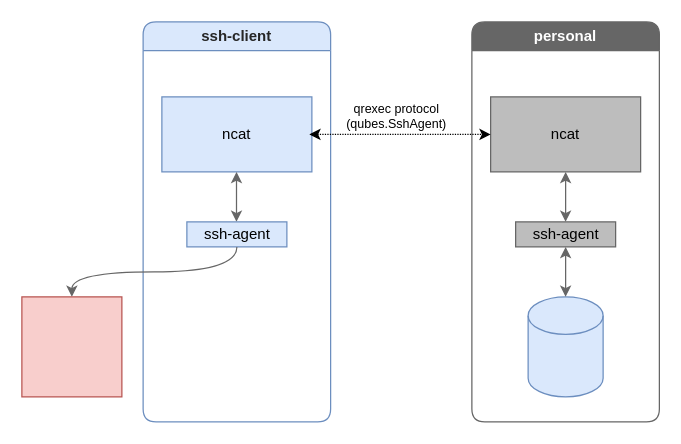
This 681x444 diagram has some shape labels left out. Each missing label, with the centre of its shape:
"Remote server" belongs at [71,346].
"SSH Keys" belongs at [565,346].
